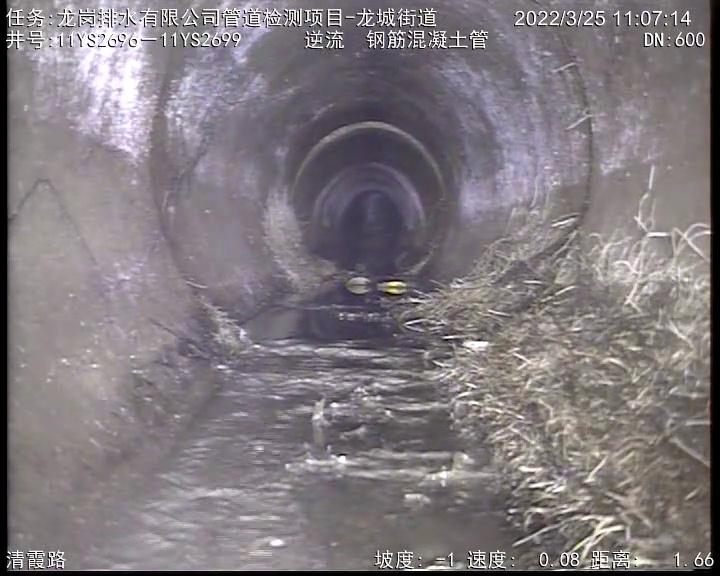SG: (216, 191, 709, 564)
